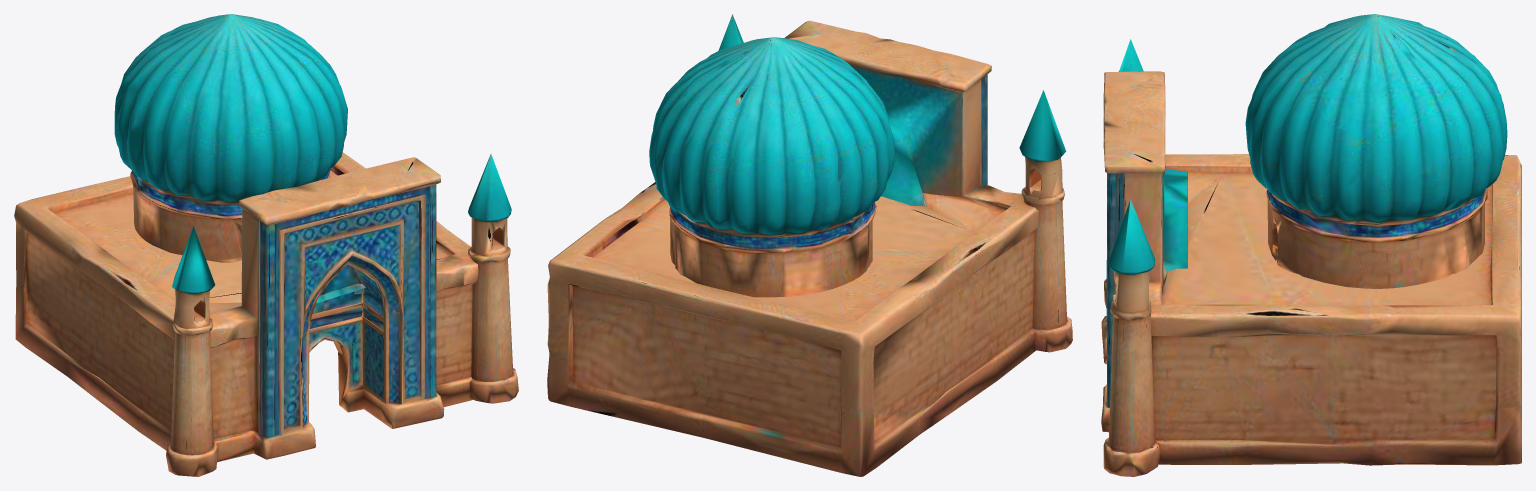
File: madrasa.glb
3 views of the same model, side by side, from view 1: azimuth 30°, elevation 25°; view 2: azimuth 150°, elevation 25°; view 3: azimuth 270°, elevation 25° (orthographic). The views are drawn at different scales.
Parts seen in each view (by area): view 1: geometry_0; view 2: geometry_0; view 3: geometry_0.
Part boxes in pixels (x1,y1,x2,y2): geometry_0: [14, 14, 518, 476]; geometry_0: [547, 14, 1072, 476]; geometry_0: [1101, 14, 1521, 476].
Size of the model in its own units: 0.9521 by 0.8847 by 0.9102.
1 material, 1 textured.
